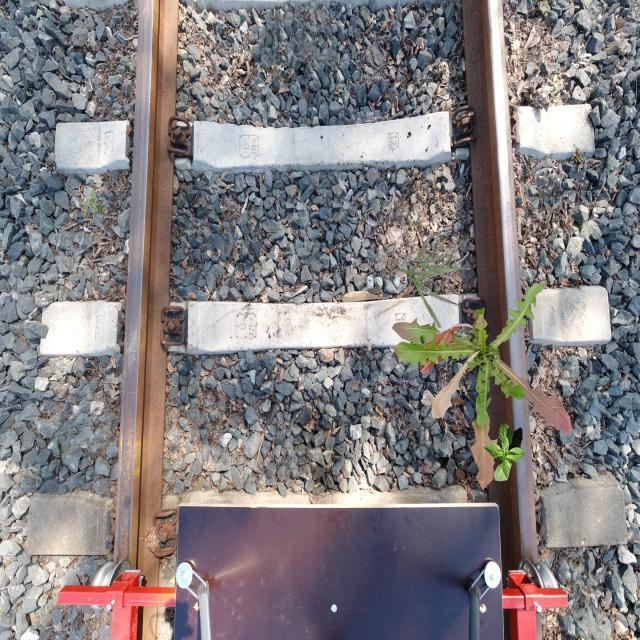Plant: (392, 282, 572, 490), (397, 234, 470, 328), (483, 422, 525, 482), (81, 190, 108, 220)
